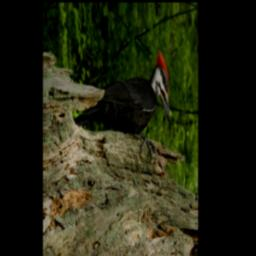Woodpecker: (72, 46, 172, 165)
